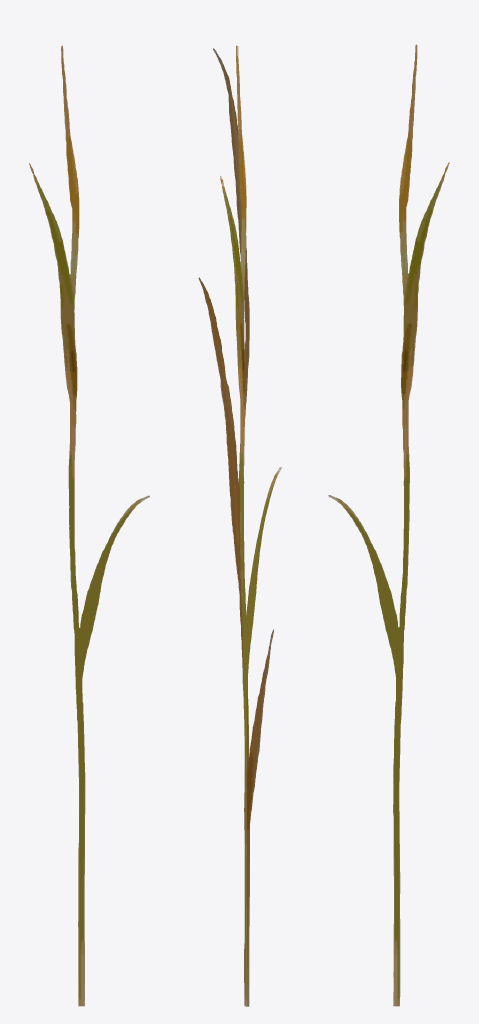
Rendered from Grass_B.fbx.
3 views of the same model, side by side, from view 1: azimuth 90°, elevation 25°; view 2: azimuth 150°, elevation 25°; view 3: azimuth 270°, elevation 25° (orthographic).
Visible parts, largest first — view 1: Grass_B; view 2: Grass_B; view 3: Grass_B.
Part boxes in pixels (x1=…): Grass_B: x1=29, y1=45, x2=149, y2=1006; Grass_B: x1=198, y1=45, x2=281, y2=1006; Grass_B: x1=328, y1=44, x2=449, y2=1006.
Bounding box in the file's own units: 18.31 × 186 × 25.18.
